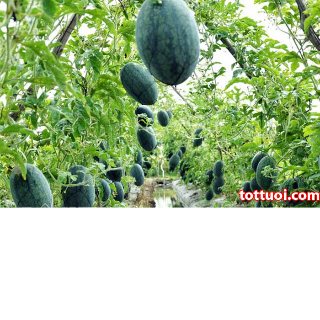dua_hau: (122, 1, 203, 91), (113, 59, 160, 108)
